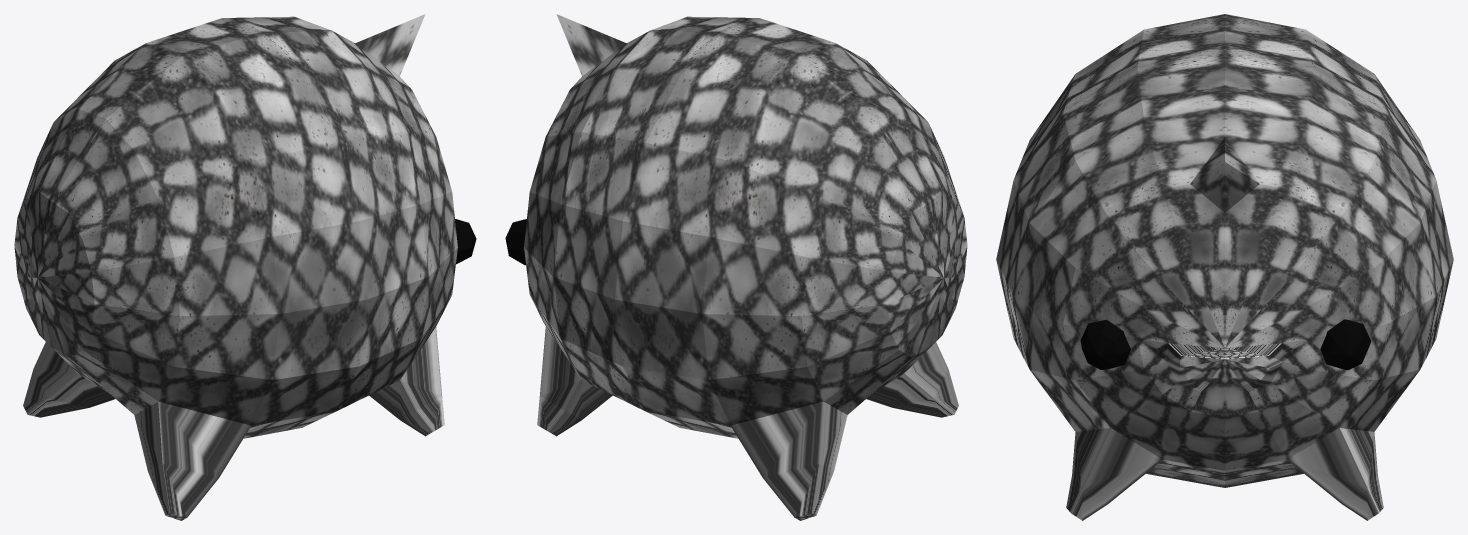
File: bichillo.dae
3 renders of one model, left to right at view 1: azimuth 30°, elevation 25°; view 2: azimuth 150°, elevation 25°; view 3: azimuth 270°, elevation 25°, orthographic. The views are drawn at different scales.
Parts seen in each view (by area): view 1: GatoPardo, PataPosterior.R, PataDelantera.R, PataPosterior.L, Cuerno, OjoDerecho; view 2: GatoPardo, PataPosterior.L, PataDelantera.L, PataPosterior.R, Cuerno, OjoIzquierdo; view 3: GatoPardo, PataDelantera.R, PataDelantera.L, Cuerno, OjoDerecho, OjoIzquierdo.
Boxes of the visible parts, bbox=[...] form: GatoPardo: bbox=[14, 16, 457, 438]; PataPosterior.R: bbox=[134, 401, 250, 520]; PataDelantera.R: bbox=[369, 327, 444, 436]; PataPosterior.L: bbox=[23, 342, 115, 417]; Cuerno: bbox=[355, 14, 425, 76]; OjoDerecho: bbox=[455, 219, 476, 264]; GatoPardo: bbox=[524, 16, 967, 438]; PataPosterior.L: bbox=[731, 401, 847, 520]; PataDelantera.L: bbox=[537, 327, 612, 436]; PataPosterior.R: bbox=[866, 342, 958, 417]; Cuerno: bbox=[556, 14, 626, 76]; OjoIzquierdo: bbox=[505, 219, 526, 265]; GatoPardo: bbox=[996, 14, 1453, 487]; PataDelantera.R: bbox=[1066, 428, 1162, 520]; PataDelantera.L: bbox=[1287, 428, 1383, 520]; Cuerno: bbox=[1190, 138, 1259, 212]; OjoDerecho: bbox=[1080, 319, 1130, 369]; OjoIzquierdo: bbox=[1320, 319, 1371, 370].
Bounding box in the file's own units: 2.18 × 2 × 2.1.
Materials: 2 (1 with a texture image).
